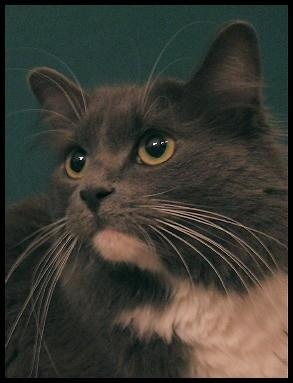cat: (5, 21, 289, 380)
